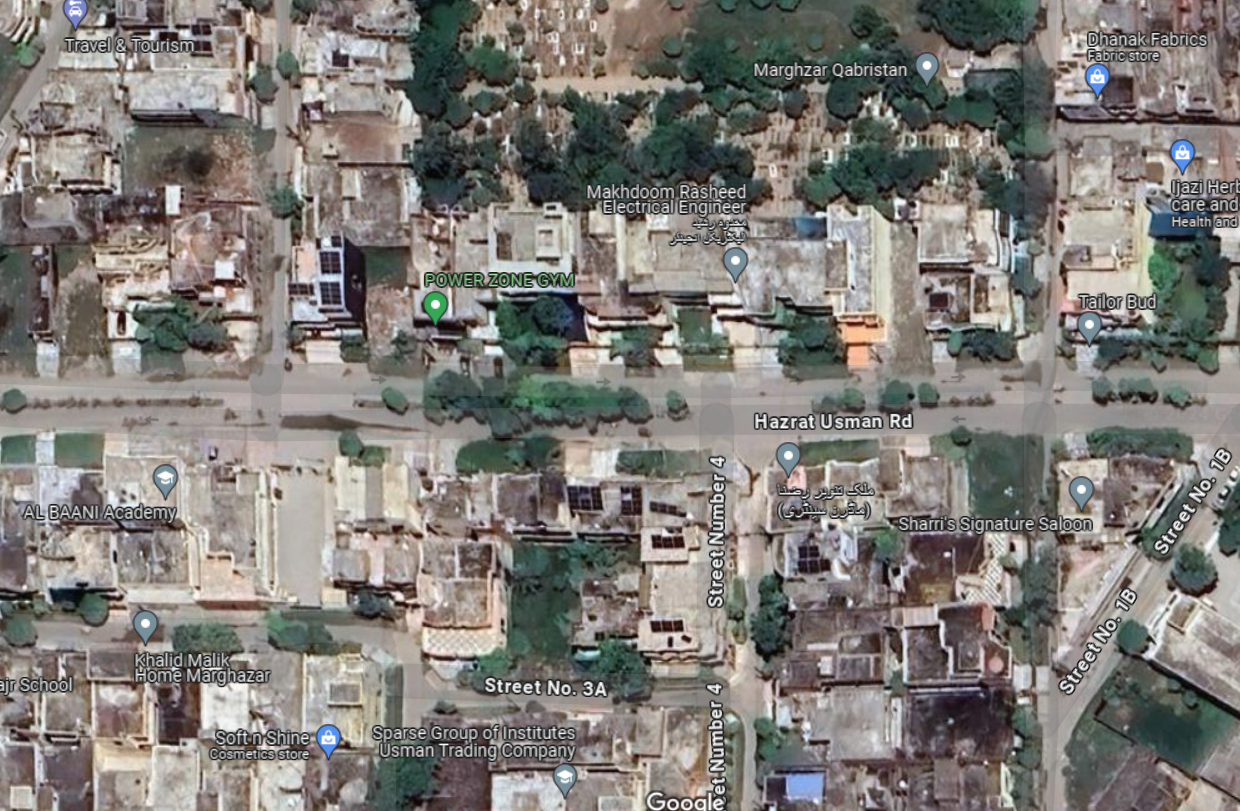solar-panel: (320, 238, 346, 308), (798, 543, 833, 572), (565, 483, 596, 506), (619, 485, 643, 513), (655, 533, 685, 549), (655, 617, 685, 632), (653, 502, 685, 516), (190, 19, 211, 33), (282, 284, 311, 294)
